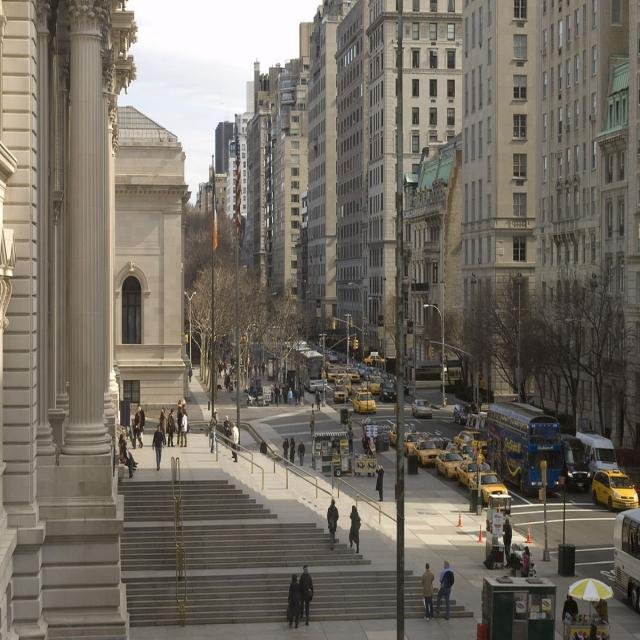body: (343, 351, 399, 392), (434, 558, 455, 622), (298, 563, 314, 626), (421, 561, 436, 621), (288, 572, 302, 630), (118, 432, 139, 468), (326, 496, 339, 552), (151, 424, 165, 472), (349, 505, 362, 554), (119, 440, 135, 479), (502, 518, 512, 570), (562, 592, 578, 624), (132, 406, 143, 451), (165, 408, 176, 448), (374, 463, 385, 502), (209, 410, 218, 454), (158, 406, 167, 448), (230, 421, 239, 463), (137, 403, 145, 449), (179, 409, 188, 448), (272, 382, 288, 403), (175, 407, 183, 448), (246, 359, 261, 380), (222, 415, 232, 446), (522, 544, 531, 578), (297, 438, 306, 467), (282, 436, 290, 467), (347, 426, 355, 457), (289, 436, 297, 464), (308, 408, 316, 436), (176, 399, 183, 428), (361, 432, 368, 457), (298, 384, 304, 408), (476, 392, 483, 412), (441, 437, 451, 451), (259, 439, 267, 456), (180, 403, 189, 418), (316, 390, 322, 411), (294, 387, 300, 408), (287, 387, 293, 408), (228, 356, 235, 374), (223, 372, 229, 392), (275, 384, 280, 407), (222, 359, 228, 376), (260, 361, 266, 378), (278, 384, 283, 404), (314, 386, 319, 405), (225, 373, 230, 392), (217, 359, 222, 378), (188, 366, 192, 382)
